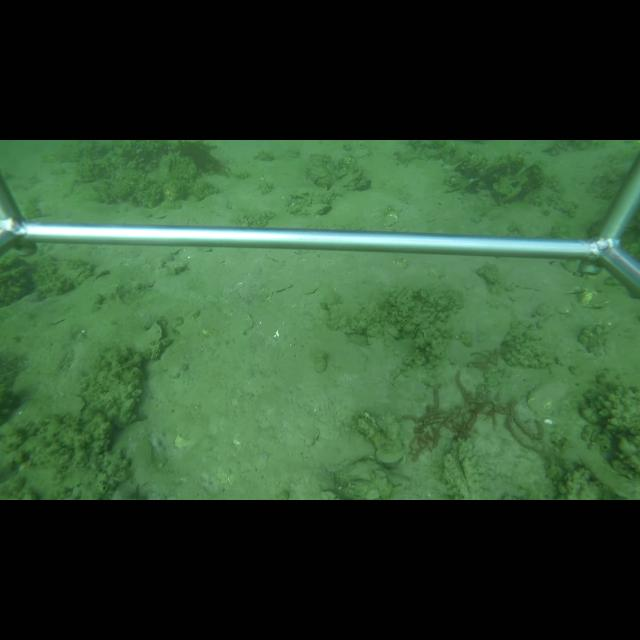Oyster-Closed: (335, 459, 394, 499), (526, 382, 568, 413), (139, 319, 164, 361), (336, 166, 364, 192), (461, 178, 479, 191), (312, 204, 332, 215)
Oyster-Open: (373, 446, 409, 470)
